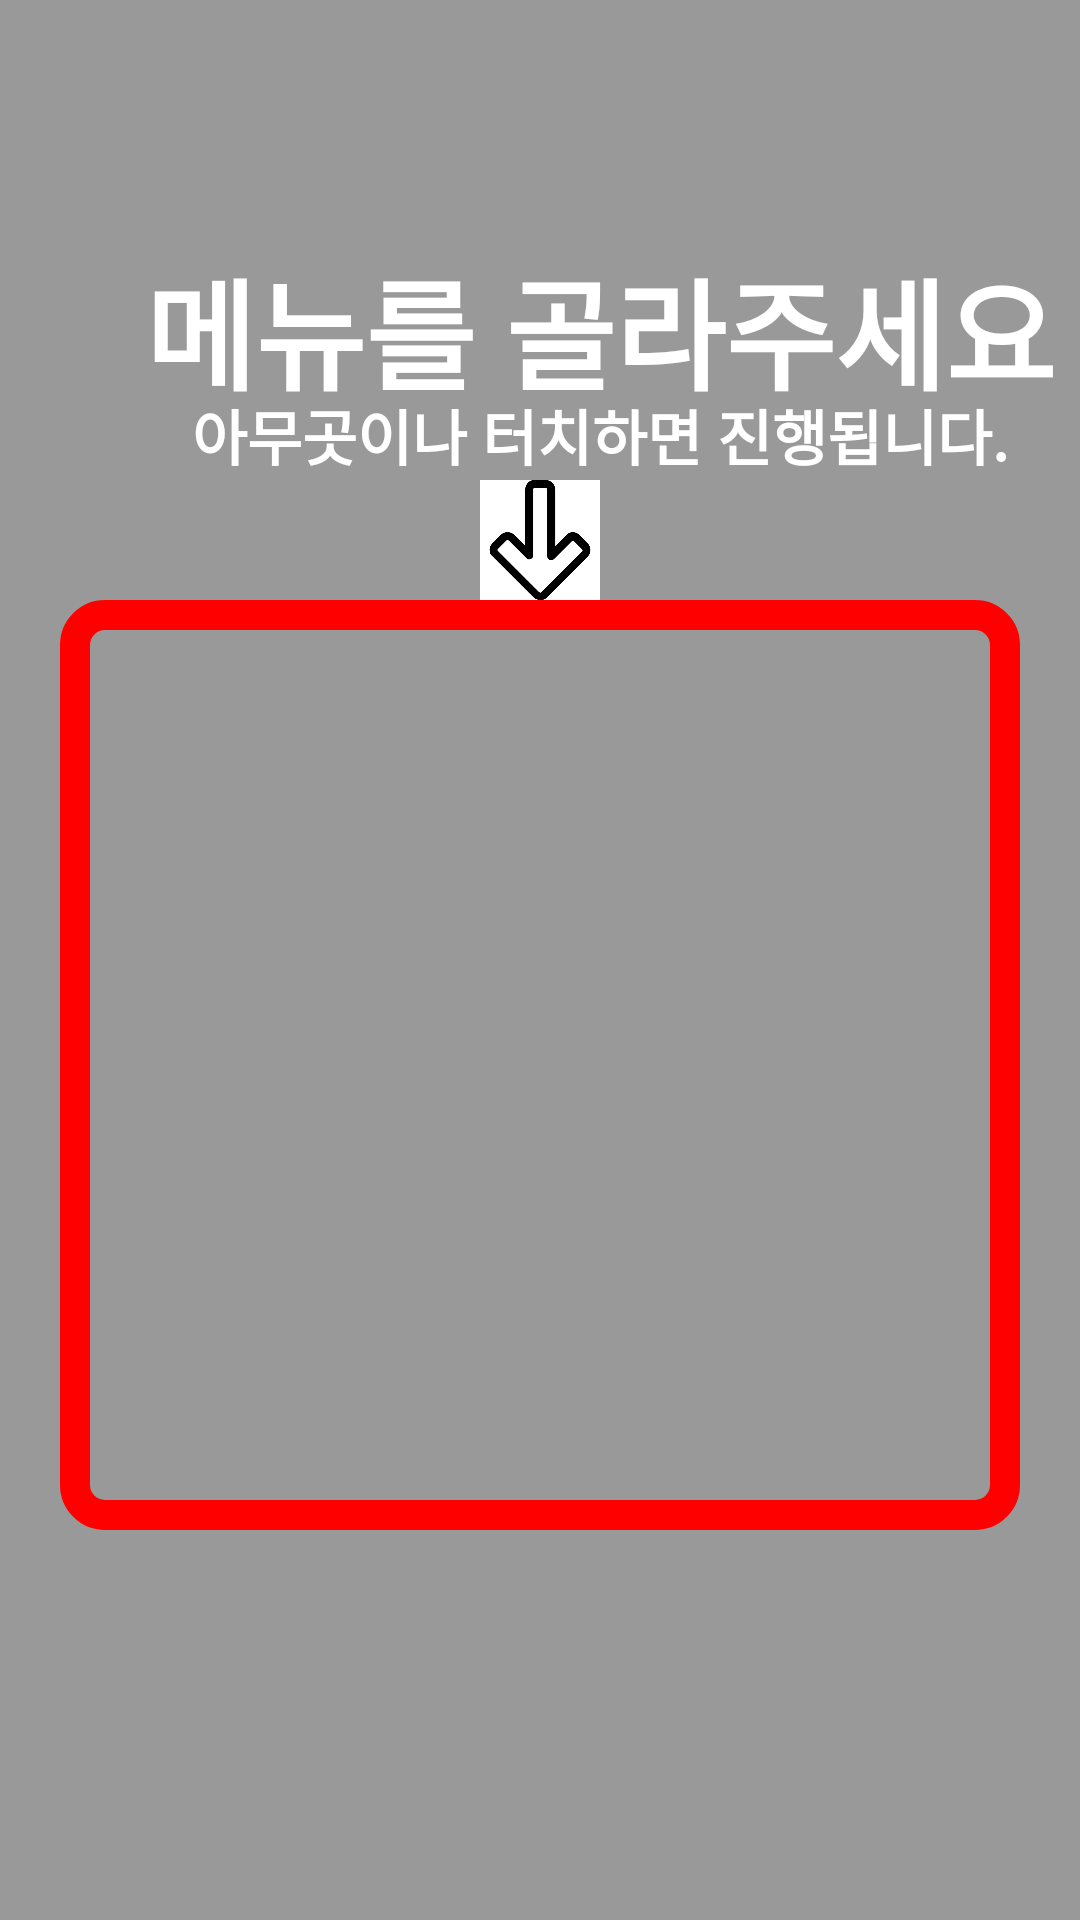

Locate icon controls on the screen. Image size 1080x1920, boxes as (x1, y1, x2, y2).
down: (480, 480, 600, 600)
